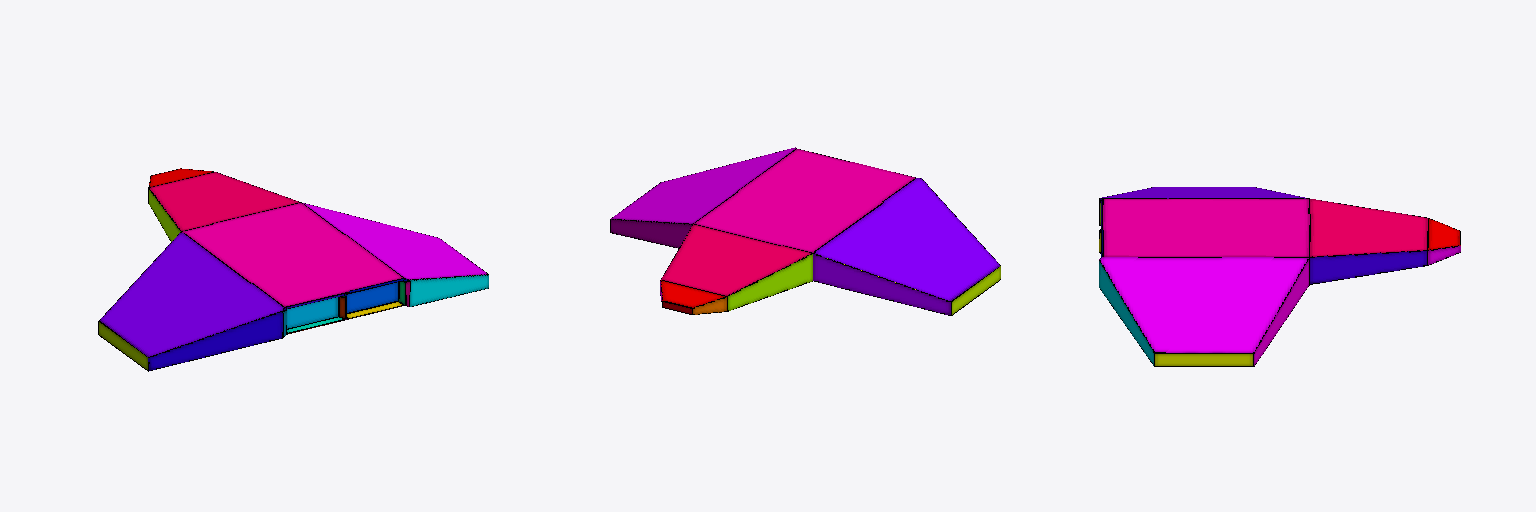
3 renders of one model, left to right at view 1: azimuth 30°, elevation 25°; view 2: azimuth 150°, elevation 25°; view 3: azimuth 270°, elevation 25°, orthographic.
Parts seen in each view (by area): view 1: Cube1; view 2: Cube1; view 3: Cube1.
Part boxes in pixels (x1,y1,x2,y2): Cube1: (98, 168, 488, 371); Cube1: (610, 147, 1000, 315); Cube1: (1099, 187, 1460, 366).
Bounding box in the file's own units: 5.68 × 0.8973 × 5.22.
1 materials, 1 textured.